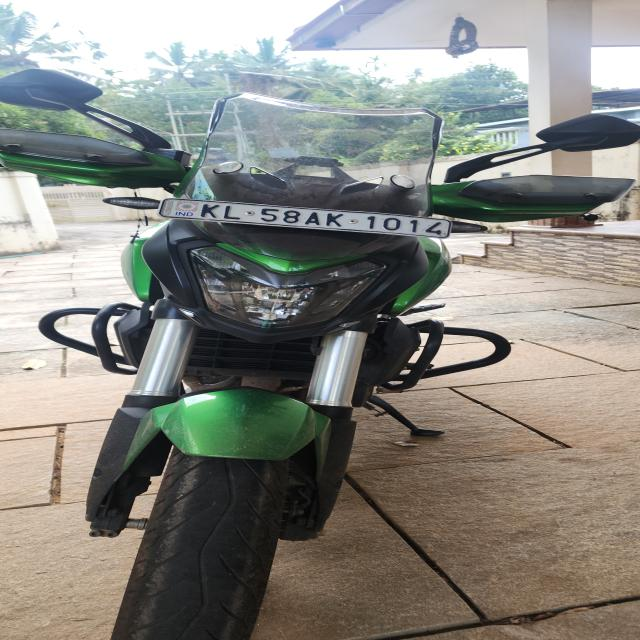headlight: (185, 244, 389, 328)
